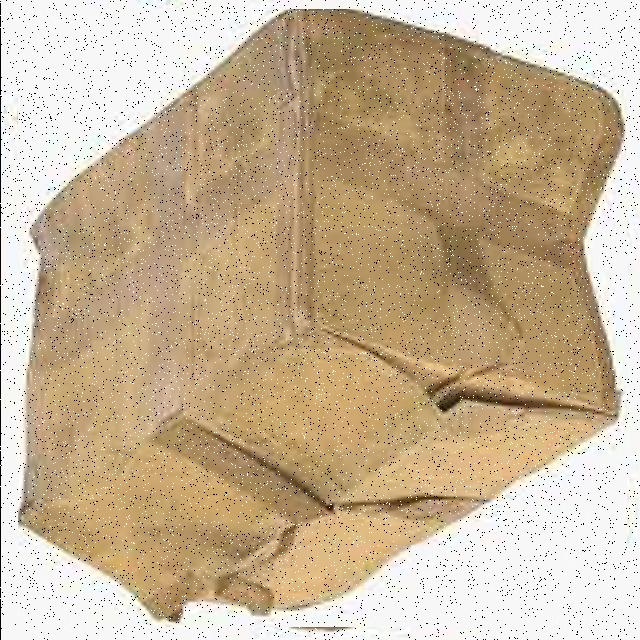defect: (17, 9, 626, 627)
